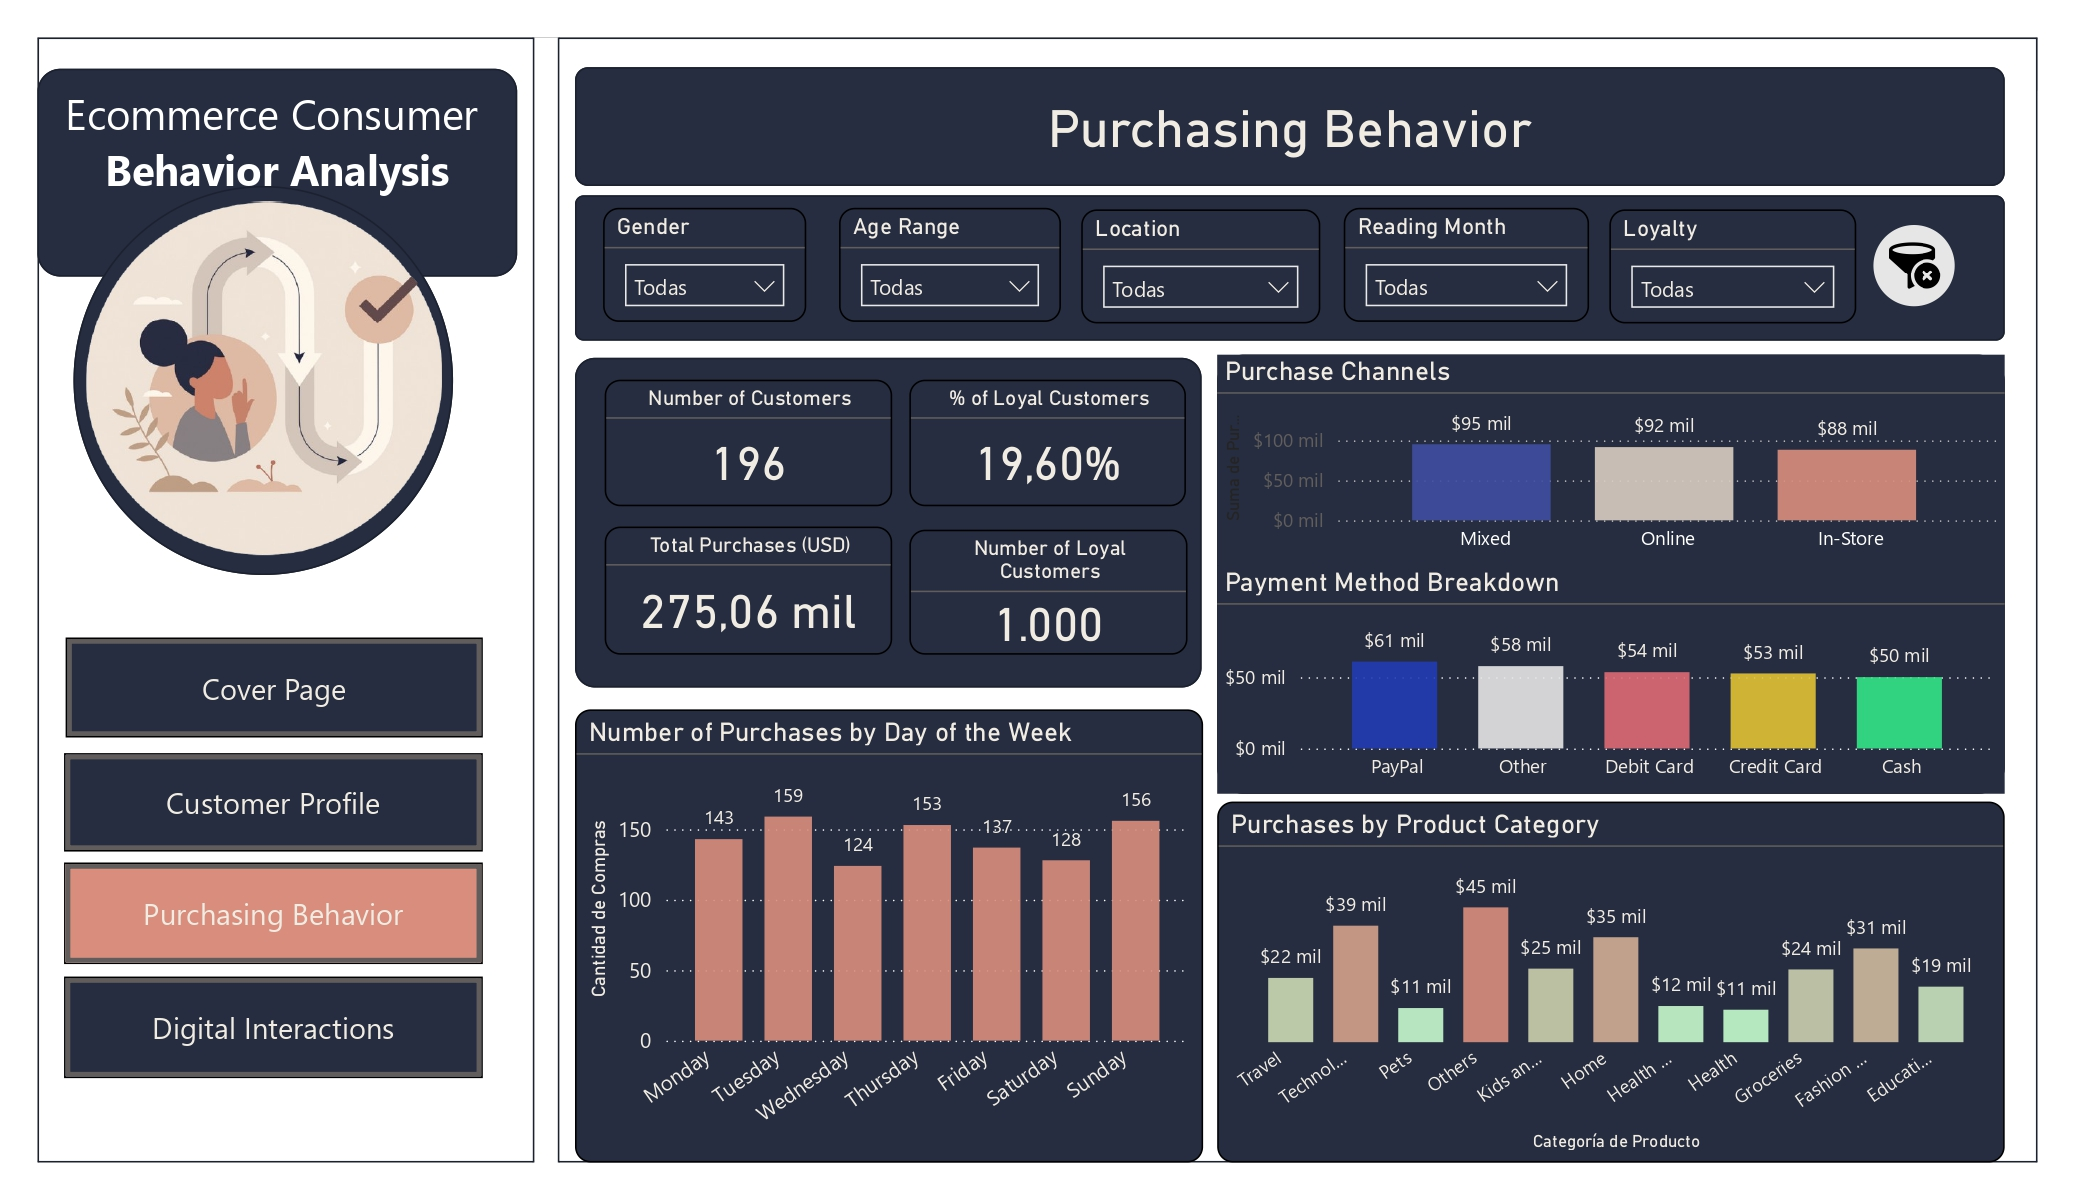

The dashboard page shown, as its layout file describes it:
{"tool":"powerbi","page":{"name":"Purchasing Behavior","canvas":[1280,720],"ordinal":2},"visuals":[{"type":"shape","box":[0,0,318,719.7],"z":0},{"type":"shape","box":[0,19.7,307,133.2],"z":0,"group":"g1"},{"type":"shape","box":[332.8,0,947.5,719.7],"z":1000},{"type":"shape","box":[23.3,95.1,243.1,248.7],"z":1000,"group":"g1"},{"type":"image","box":[3.5,99.8,282.6,239.2],"z":2000,"group":"g1"},{"type":"shape","box":[344.3,100.7,914.8,93.4],"z":2000},{"type":"shape","box":[343.8,18.8,915,76.2],"z":3000},{"type":"textbox","box":[343.8,33.8,915,53.8],"z":4000},{"type":"columnChart","title":"Purchases by Product Category","fields":{"Category":["Purchase Categories.MacroCategoria Jerarquía.MacroCategoria","Purchase Categories.MacroCategoria Jerarquía.Purchase_Category"],"Y":["Sum(Tabla 8 (Purchases).Purchase_Amount)"]},"box":[755.1,488.8,503.4,231.2],"z":5000},{"type":"columnChart","title":"Number of Purchases by Day of the Week","fields":{"Category":["Purchase.DayOfWeek"],"Y":["Medidas.Cantidad Compras"]},"box":[343.9,430.2,402.4,289.8],"z":6000},{"type":"actionButton","box":[17.4,457.6,267.9,63.4],"z":7000},{"type":"actionButton","box":[17.4,527.8,267.9,64.9],"z":8000},{"type":"actionButton","box":[17.4,600.9,267.9,64.9],"z":9000},{"type":"actionButton","box":[17.7,384,267.5,63.8],"z":10000},{"type":"group","id":"g1","title":"Grupo 1","box":[0,19.7,306.6,324.6],"z":11000},{"type":"shape","box":[1174.7,120.3,52.5,52.4],"z":11000,"group":"g2"},{"type":"textbox","box":[0,24.6,306.6,159],"z":12000},{"type":"image","box":[1178.6,124.3,44.6,44.4],"z":12000,"group":"g2"},{"type":"group","id":"g2","title":"Grupo 2","box":[1174.7,120.3,53.2,51.9],"z":13000},{"type":"shape","box":[343.9,204.9,401,210.7],"z":14000},{"type":"shape","box":[755.1,203.4,503.4,281],"z":15000},{"type":"columnChart","title":"Payment Method Breakdown","fields":{"Category":["Payment Method.Payment_Method"],"Y":["Sum(Tabla 8 (Purchases).Purchase_Amount)"]},"box":[755.1,338,503.4,146.3],"z":16000},{"type":"columnChart","title":"Purchase Channels","fields":{"Category":["Purchase Channel.Purchase_Channel"],"Y":["Sum(Purchase.Purchase_Amount)"]},"box":[755.1,203.4,503.4,134.6],"z":17000},{"type":"slicer","title":"Gender","fields":{"Values":["Gender.Gender"]},"box":[362,108.9,130.4,73.4],"z":18000},{"type":"slicer","title":"Age Range","fields":{"Values":["Clients.RangoEdad Jerarquía.RangoEdad","Clients.RangoEdad Jerarquía.Age"]},"box":[512.6,109.2,142.5,72.4],"z":19000},{"type":"slicer","title":"Reading Month","fields":{"Values":["CalendarioDinamico.Mes (Abreviado)","CalendarioDinamico.Año"]},"box":[835.6,109.2,157.5,72.4],"z":20000},{"type":"slicer","title":"Location","fields":{"Values":["Region.Region","Country(Country).Country"]},"box":[667.8,110.3,152.9,72.4],"z":21000},{"type":"slicer","title":"Loyalty","fields":{"Values":["Purchase.Brand_Loyalty"]},"box":[1005.7,110.3,158.6,72.4],"z":22000},{"type":"card","title":"Number of Customers","fields":{"Values":["Medidas.Cantidad Clientes"]},"box":[363,219,178,80],"z":22001},{"type":"card","title":"Total Purchases (USD)","fields":{"Values":["Medidas.Total Compras"]},"box":[363,313,178,82],"z":22002},{"type":"card","title":"Number of Loyal Customers","fields":{"Values":["Medidas.Clientes Leales"]},"box":[553,219,184,81],"z":22003},{"type":"card","title":"% of Loyal Customers","fields":{"Values":["Medidas.PorCienClientesLeales"]},"box":[553,314,184,81],"z":22004}]}

Visuals, with their boxes on the page's 1280x720 design canvas (x1, y1, x2, y2). These are canvas units, not pixel positions in the 2075x1200 screenshot, which may show the page scaled, cropped or inside an application window:
shape: [0, 0, 318, 720]
shape: [0, 20, 307, 153]
shape: [333, 0, 1280, 720]
shape: [23, 95, 266, 344]
image: [4, 100, 286, 339]
shape: [344, 101, 1259, 194]
shape: [344, 19, 1259, 95]
textbox: [344, 34, 1259, 88]
"Purchases by Product Category" columnChart: [755, 489, 1258, 720]
"Number of Purchases by Day of the Week" columnChart: [344, 430, 746, 720]
actionButton: [17, 458, 285, 521]
actionButton: [17, 528, 285, 593]
actionButton: [17, 601, 285, 666]
actionButton: [18, 384, 285, 448]
"Grupo 1" group: [0, 20, 307, 344]
shape: [1175, 120, 1227, 173]
textbox: [0, 25, 307, 184]
image: [1179, 124, 1223, 169]
"Grupo 2" group: [1175, 120, 1228, 172]
shape: [344, 205, 745, 416]
shape: [755, 203, 1258, 484]
"Payment Method Breakdown" columnChart: [755, 338, 1258, 484]
"Purchase Channels" columnChart: [755, 203, 1258, 338]
"Gender" slicer: [362, 109, 492, 182]
"Age Range" slicer: [513, 109, 655, 182]
"Reading Month" slicer: [836, 109, 993, 182]
"Location" slicer: [668, 110, 821, 183]
"Loyalty" slicer: [1006, 110, 1164, 183]
"Number of Customers" card: [363, 219, 541, 299]
"Total Purchases (USD)" card: [363, 313, 541, 395]
"Number of Loyal Customers" card: [553, 219, 737, 300]
"% of Loyal Customers" card: [553, 314, 737, 395]
